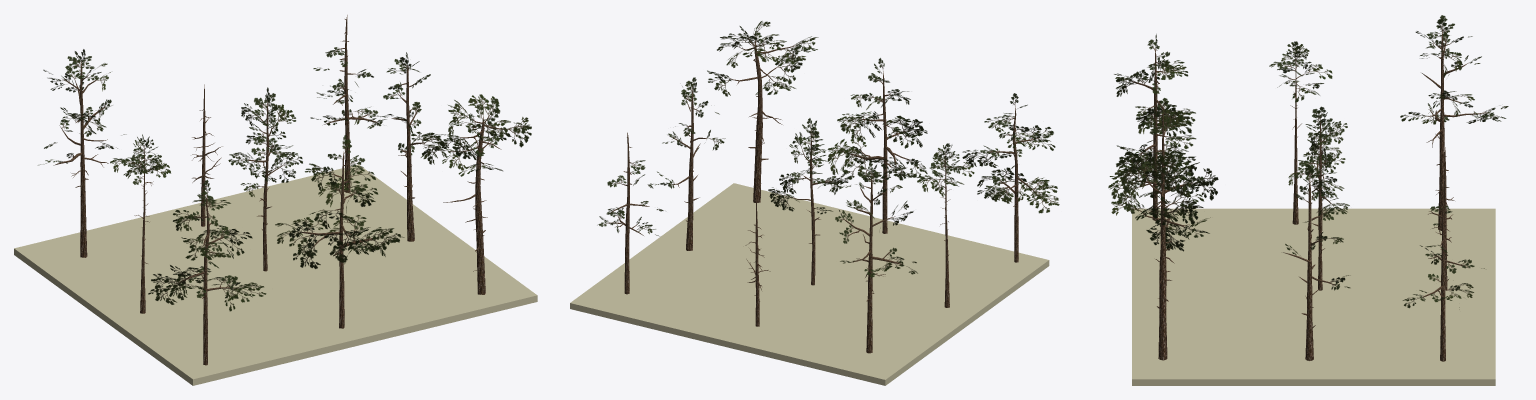
3 views of the same model, side by side, from view 1: azimuth 30°, elevation 25°; view 2: azimuth 150°, elevation 25°; view 3: azimuth 270°, elevation 25° (orthographic). The views are drawn at different scales.
Visible parts, largest first — view 1: Box001, 2_Foliage_mat1, 1_Foliage_mat1, 3_Foliage_mat1, 5_Foliage_mat1_Mat_Foliage_1_0, 1_Foliage_mat2, 2_Foliage_mat2, 5_Foliage_mat2_Material #28_0, 3_Trunk, 7_Trunk, 7_Foliage_mat2, 6_Trunk (+14 smaller); view 2: Box001, 2_Foliage_mat1, 1_Foliage_mat1, 3_Foliage_mat1, 5_Foliage_mat1_Mat_Foliage_1_0, 1_Foliage_mat2, 3_Trunk, 7_Foliage_mat2, 5_Foliage_mat2_Material #28_0, 7_Trunk, 6_Trunk, 4_Foliage_mat1_Mat_Foliage_1_0 (+12 smaller); view 3: Box001, 3_Foliage_mat1, 2_Foliage_mat1, 1_Foliage_mat1, 5_Foliage_mat1_Mat_Foliage_1_0, 3_Trunk, 1_Foliage_mat2, 5_Foliage_mat2_Material #28_0, 7_Foliage_mat1, 6_Trunk, 7_Trunk, 7_Foliage_mat2 (+12 smaller).
Boxes of the visible parts, x1=… form: Box001: x1=14, y1=164, x2=537, y2=385; 2_Foliage_mat1: x1=275, y1=163, x2=404, y2=268; 1_Foliage_mat1: x1=148, y1=198, x2=266, y2=311; 3_Foliage_mat1: x1=422, y1=94, x2=531, y2=176; 5_Foliage_mat1_Mat_Foliage_1_0: x1=228, y1=103, x2=302, y2=196; 1_Foliage_mat2: x1=188, y1=180, x2=250, y2=297; 2_Foliage_mat2: x1=288, y1=135, x2=373, y2=262; 5_Foliage_mat2_Material #28_0: x1=240, y1=87, x2=293, y2=188; 3_Trunk: x1=475, y1=116, x2=485, y2=294; 7_Trunk: x1=80, y1=61, x2=87, y2=257; 7_Foliage_mat2: x1=44, y1=49, x2=111, y2=163; 6_Trunk: x1=406, y1=65, x2=414, y2=241; Box001: x1=570, y1=183, x2=1049, y2=385; 2_Foliage_mat1: x1=827, y1=91, x2=927, y2=181; 1_Foliage_mat1: x1=962, y1=117, x2=1059, y2=213; 3_Foliage_mat1: x1=707, y1=21, x2=818, y2=96; 5_Foliage_mat1_Mat_Foliage_1_0: x1=768, y1=132, x2=849, y2=214; 1_Foliage_mat2: x1=980, y1=93, x2=1053, y2=201; 3_Trunk: x1=753, y1=40, x2=762, y2=202; 7_Foliage_mat2: x1=835, y1=162, x2=896, y2=277; 5_Foliage_mat2_Material #28_0: x1=781, y1=118, x2=839, y2=208; 7_Trunk: x1=866, y1=172, x2=872, y2=353; 6_Trunk: x1=686, y1=88, x2=693, y2=250; 4_Foliage_mat1_Mat_Foliage_1_0: x1=916, y1=145, x2=974, y2=196; Box001: x1=1132, y1=208, x2=1495, y2=385; 3_Foliage_mat1: x1=1111, y1=149, x2=1210, y2=237; 2_Foliage_mat1: x1=1108, y1=109, x2=1218, y2=251; 1_Foliage_mat1: x1=1114, y1=60, x2=1196, y2=174; 5_Foliage_mat1_Mat_Foliage_1_0: x1=1288, y1=121, x2=1349, y2=217; 3_Trunk: x1=1158, y1=179, x2=1167, y2=360; 1_Foliage_mat2: x1=1115, y1=34, x2=1181, y2=157; 5_Foliage_mat2_Material #28_0: x1=1294, y1=106, x2=1338, y2=206; 7_Foliage_mat1: x1=1400, y1=31, x2=1508, y2=124; 6_Trunk: x1=1305, y1=178, x2=1313, y2=360; 7_Trunk: x1=1438, y1=31, x2=1444, y2=230; 7_Foliage_mat2: x1=1426, y1=15, x2=1494, y2=121.
Size of the model in its own units: 601 by 314 by 553.
4 materials, 3 textured.
